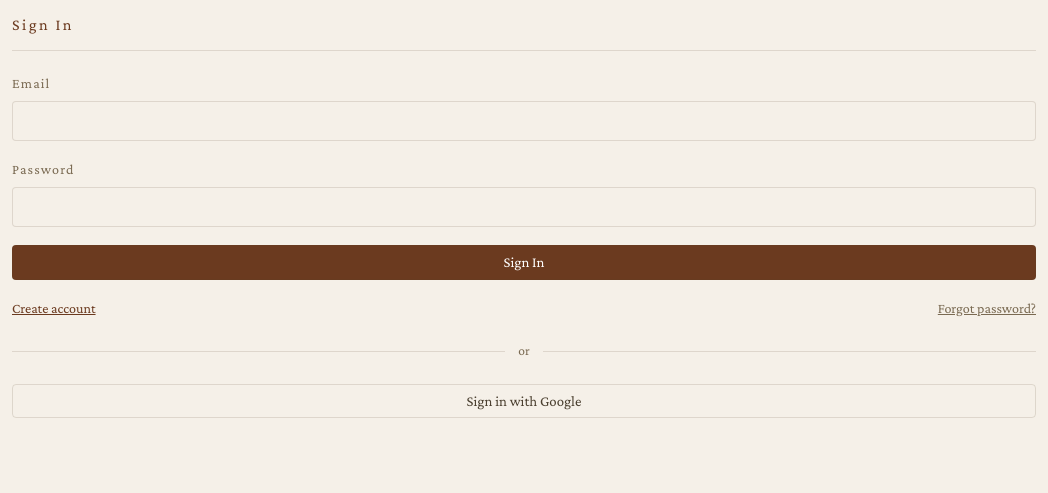
LoginForm › shows error message on failed login
Type "test@example.com" into the field.
click(524, 121); type("test@example.com")  # box [12,101,1036,141]
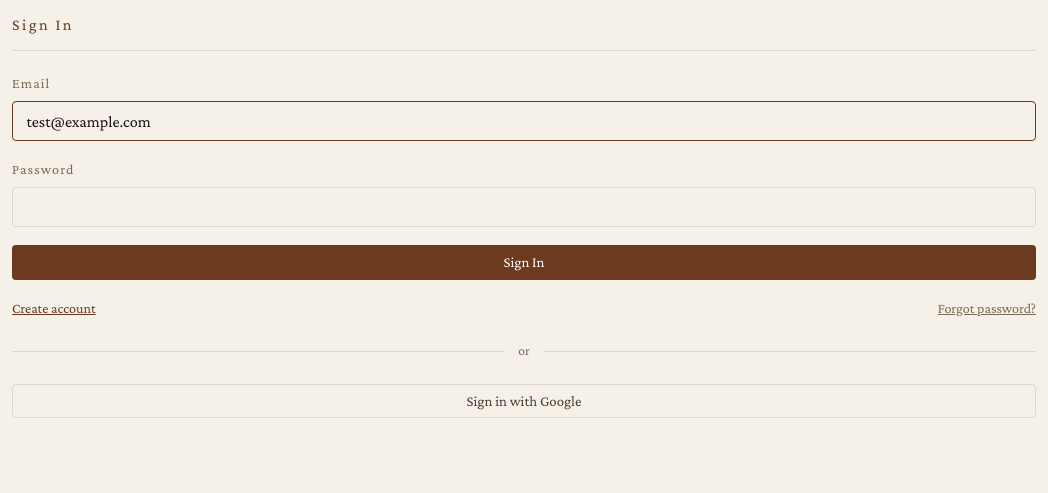
Type "wrong" into the password field.
click(524, 207); type("wrong")  # box [12,187,1036,228]
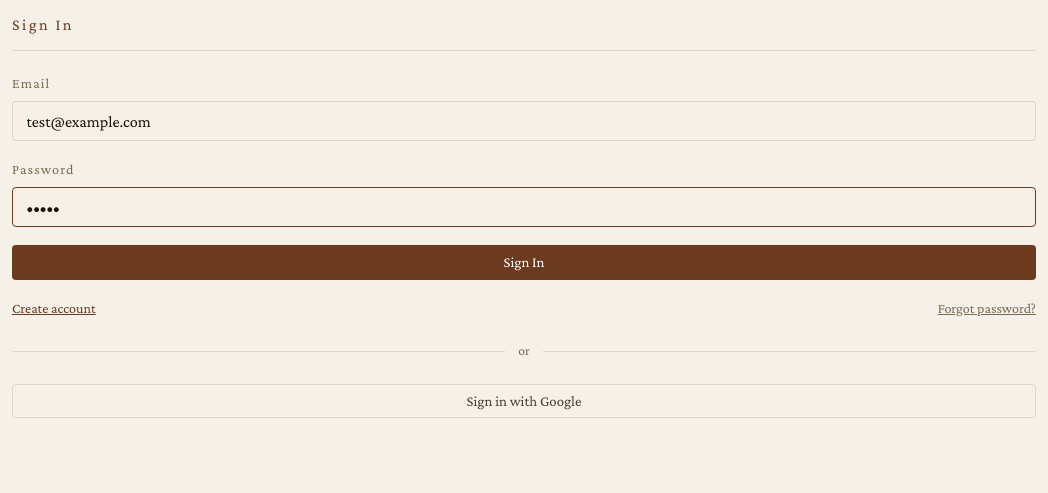
Click the button "Sign In".
click(524, 263)  # box [12,246,1036,280]
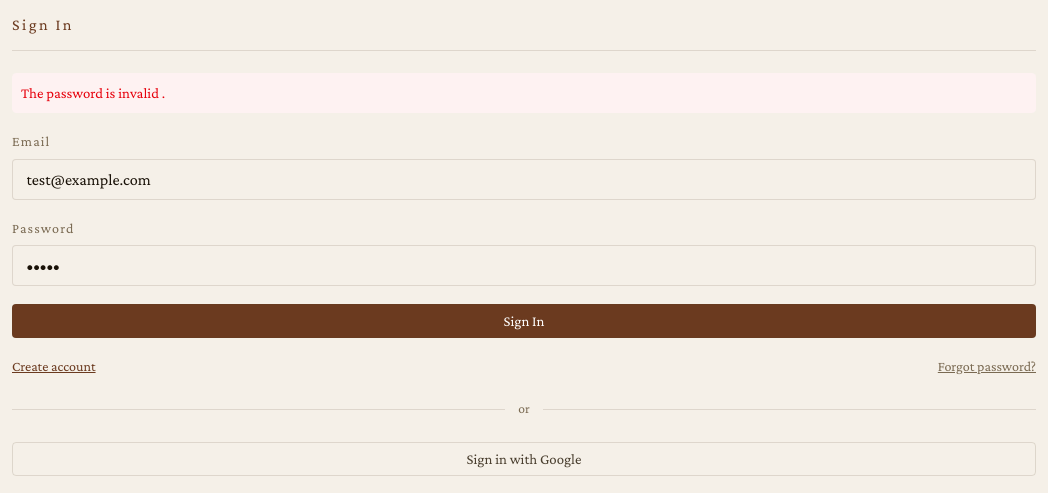
Result: the text "The password is invalid ." is shown at [12,73,1036,113]
